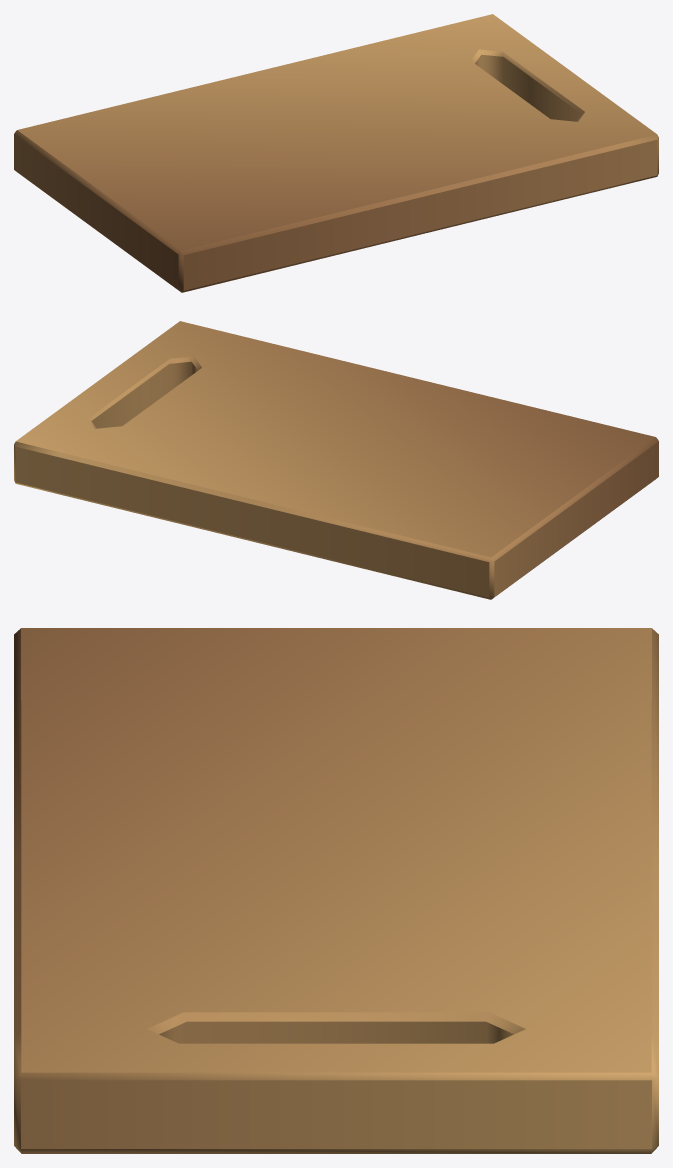
The model's file is CuttingBoard.fbx.
The picture shows the model from 3 angles, top to bottom: view 1: azimuth 30°, elevation 25°; view 2: azimuth 150°, elevation 25°; view 3: azimuth 270°, elevation 25°; orthographic projection. The views are drawn at different scales.
Visible parts, largest first — view 1: Cutting Board; view 2: Cutting Board; view 3: Cutting Board.
Boxes of the visible parts, x1=… form: Cutting Board: x1=14, y1=14, x2=658, y2=292; Cutting Board: x1=14, y1=321, x2=658, y2=599; Cutting Board: x1=14, y1=628, x2=658, y2=1153.
Size of the model in its own units: 107 by 8.99 by 64.78.
1 material, 1 textured.
